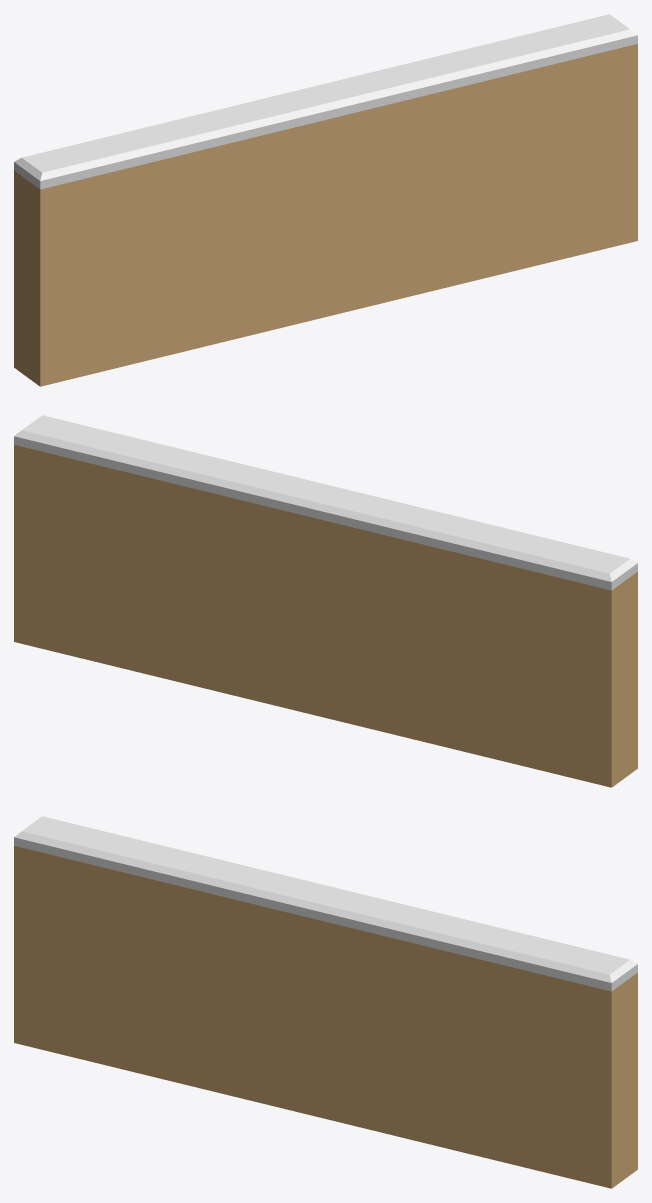
The model's file is WoodWall.fbx.
3 views of the same model, one above another, from view 1: azimuth 30°, elevation 25°; view 2: azimuth 150°, elevation 25°; view 3: azimuth 330°, elevation 25° (orthographic).
Visible parts, largest first — view 1: MURO_MADERA; view 2: MURO_MADERA; view 3: MURO_MADERA.
Boxes of the visible parts, box(x1,y1,x2,y2) form: MURO_MADERA: box(14, 14, 637, 386); MURO_MADERA: box(14, 415, 637, 787); MURO_MADERA: box(14, 816, 637, 1188).
Size of the model in its own units: 1.84 by 0.62 by 0.14.
